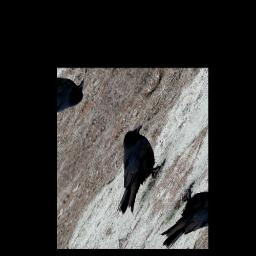Crow: (90, 119, 174, 221)
